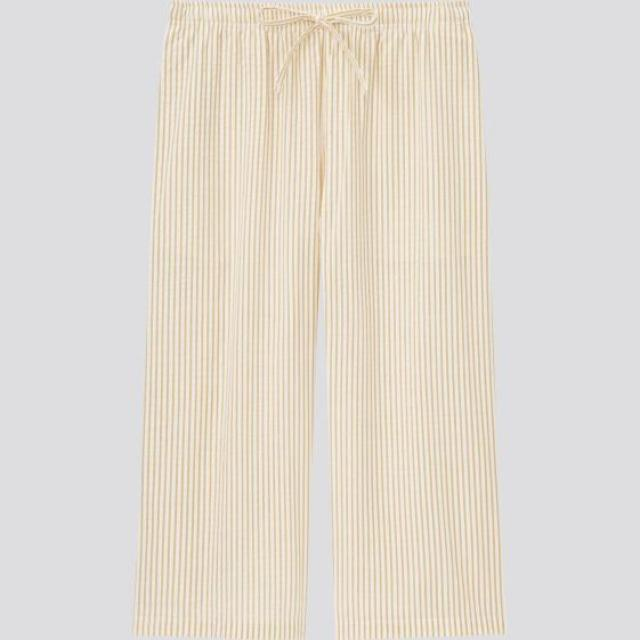long-pants: (129, 0, 509, 640)
